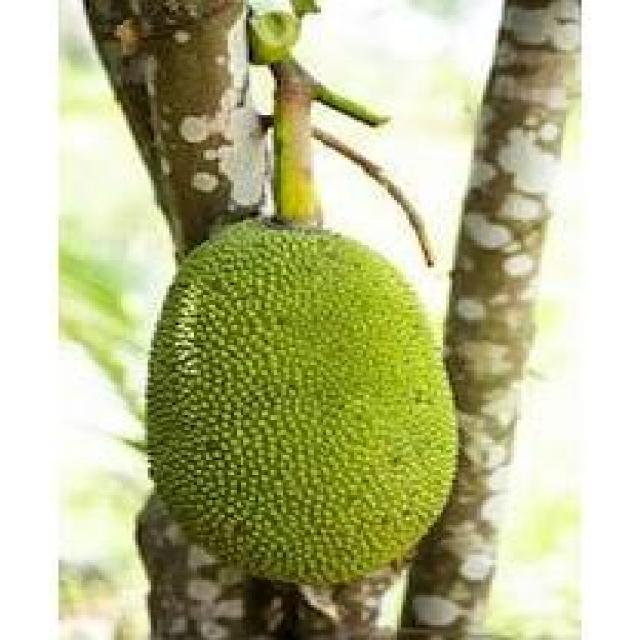Fruit: (111, 195, 483, 613)
